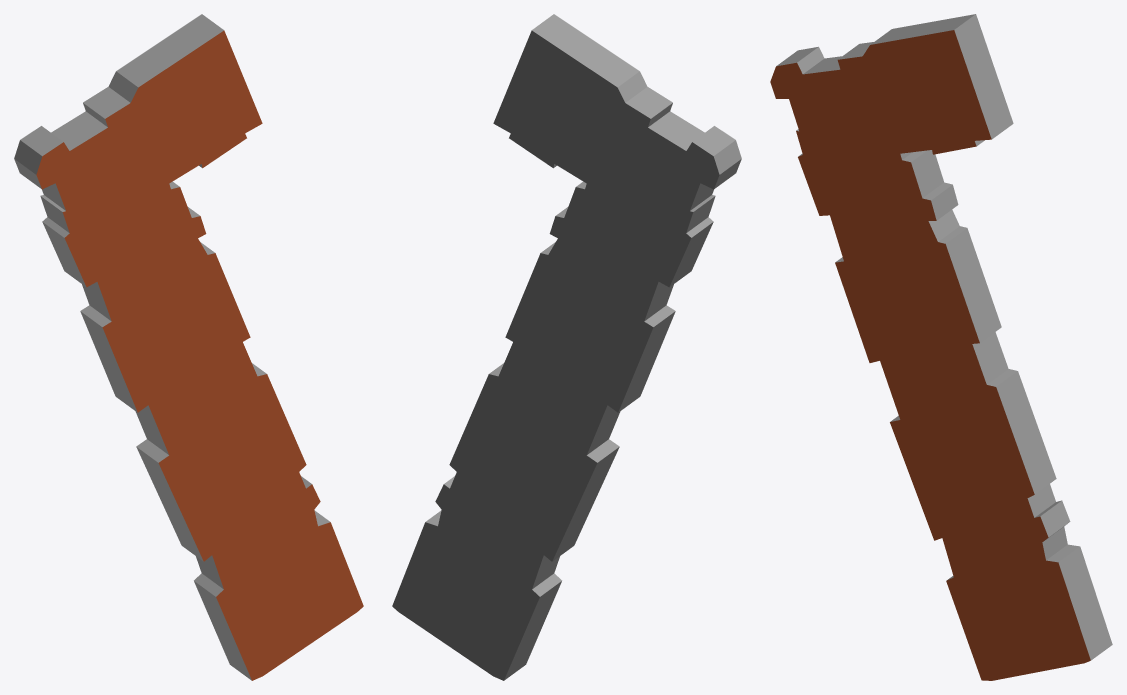
The model's file is construction_2061_assumed_A_Casa_h6m.obj.
3 views of the same model, side by side, from view 1: azimuth 30°, elevation 25°; view 2: azimuth 150°, elevation 25°; view 3: azimuth 330°, elevation 25° (orthographic). The views are drawn at different scales.
Visible parts, largest first — view 1: construction_2061_assumed_A_Casa; view 2: construction_2061_assumed_A_Casa; view 3: construction_2061_assumed_A_Casa.
Part boxes in pixels (left/top/right/bottom): construction_2061_assumed_A_Casa: left=14, top=14, right=363, bottom=680; construction_2061_assumed_A_Casa: left=392, top=14, right=741, bottom=680; construction_2061_assumed_A_Casa: left=770, top=14, right=1112, bottom=680.
Size of the model in its own units: 50.88 by 97.61 by 6.
